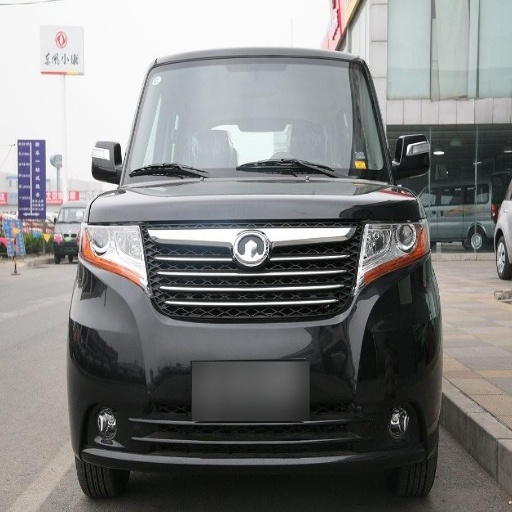front_bumper: (76, 220, 440, 465)
front_right_light: (82, 221, 143, 279)
hood: (94, 172, 416, 221)
